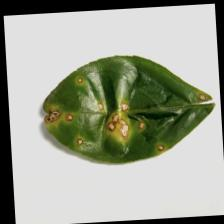canker: (39, 74, 206, 158)
